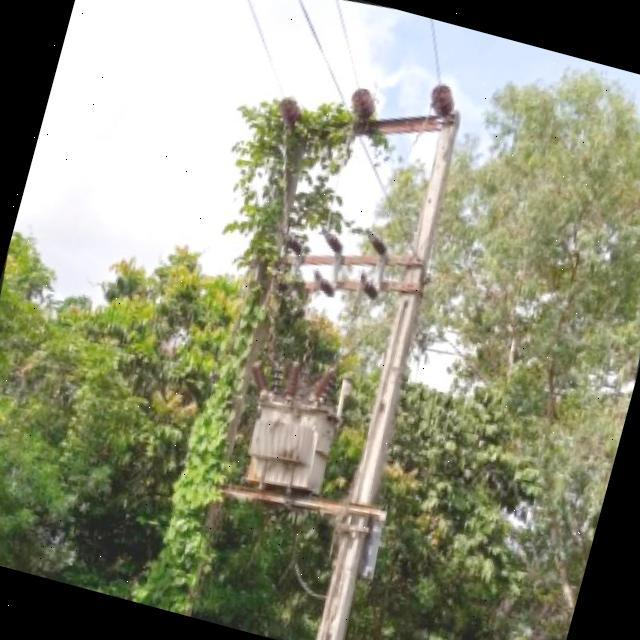critical vegetation: (164, 9, 549, 348)
